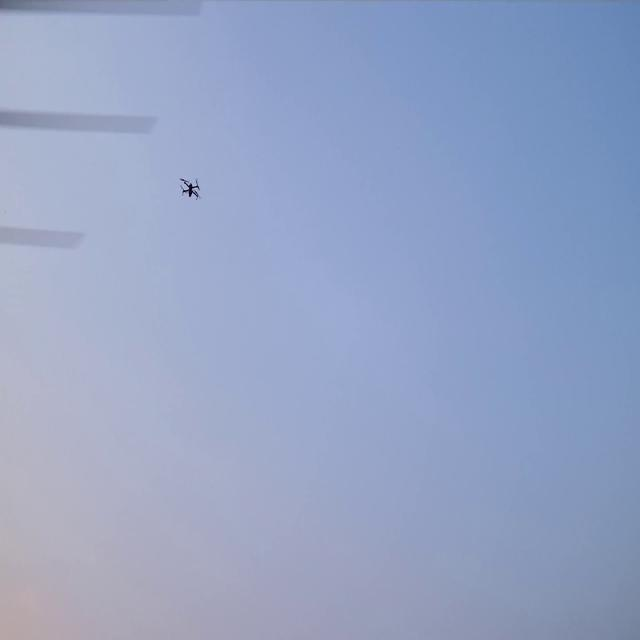UAV: (178, 174, 202, 202)
